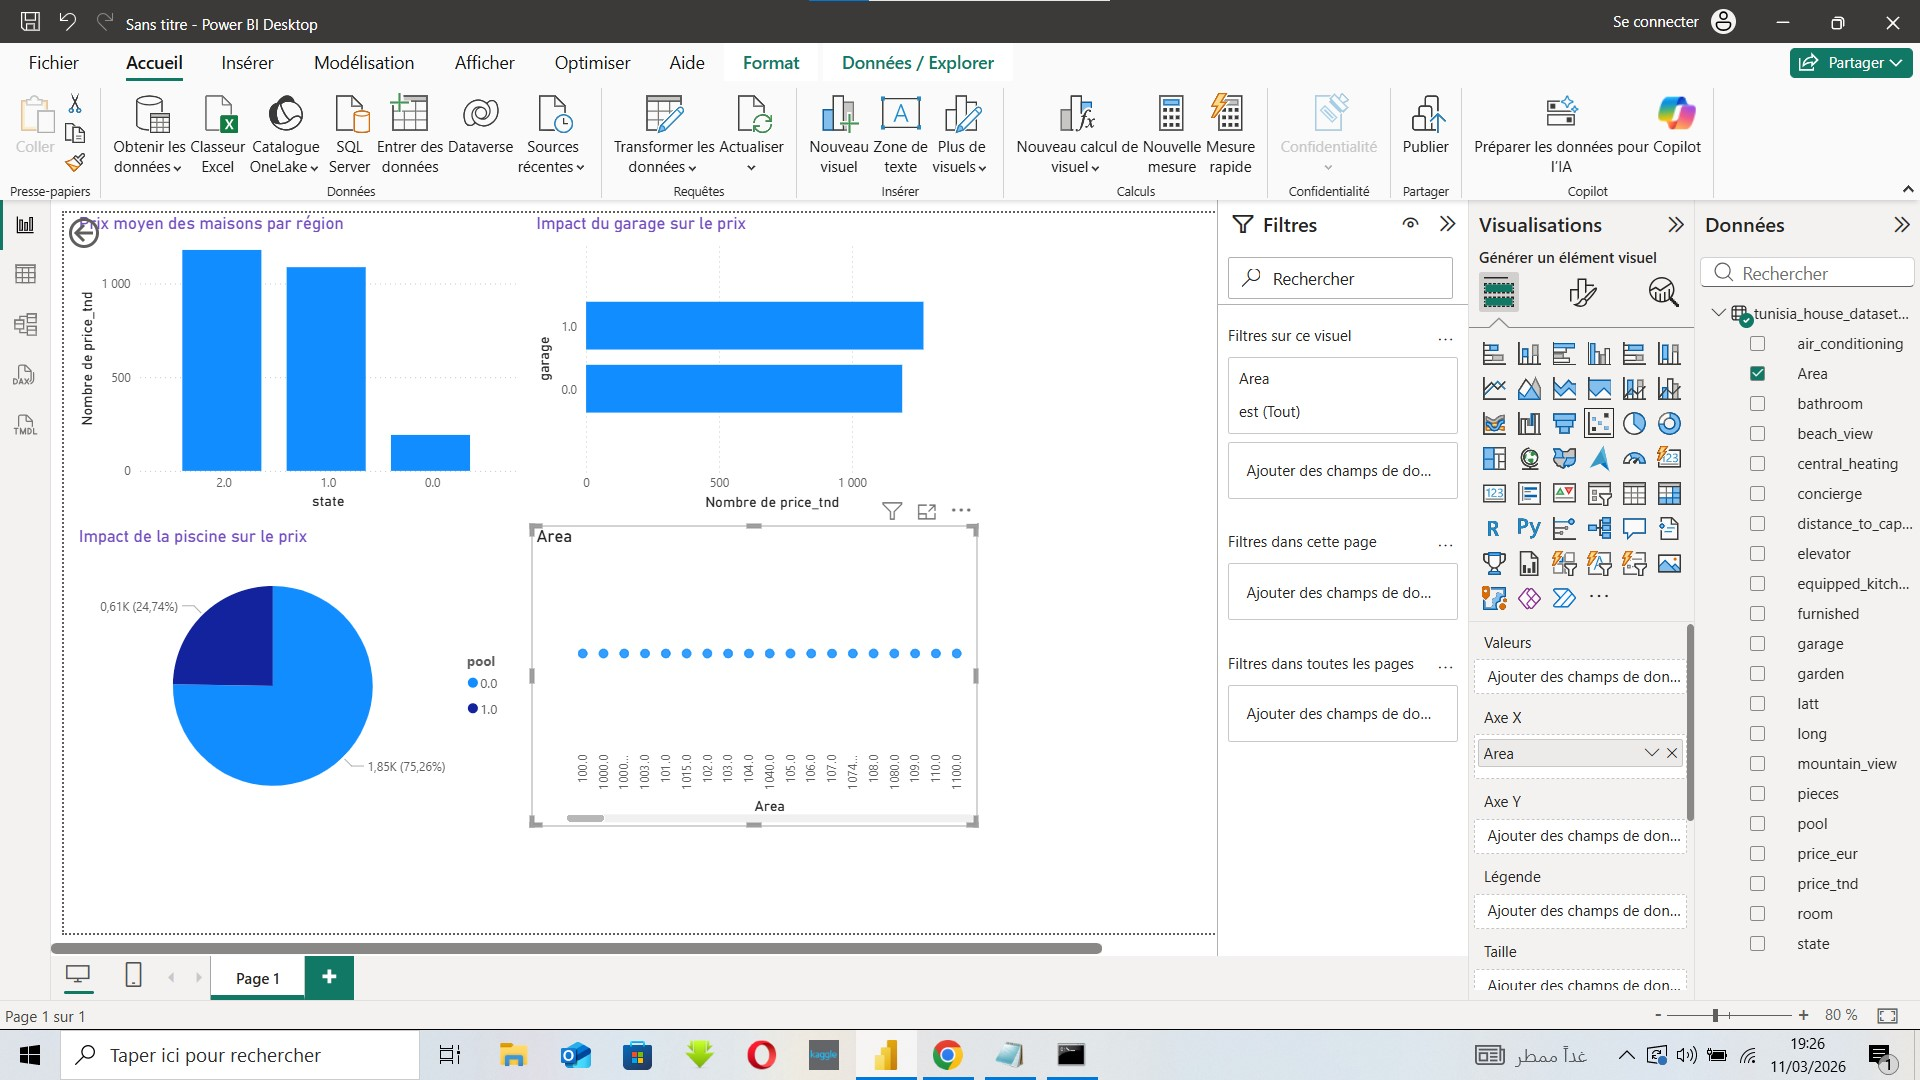

What the dashboard file says about the page in this screenshot:
{"tool":"powerbi","page":{"name":"Page 1","canvas":[1280,720],"ordinal":0},"visuals":[{"type":"clusteredColumnChart","title":"Prix moyen des maisons par région","fields":{"Category":["tunisia_house_dataset_clean.state"],"Y":["CountNonNull(tunisia_house_dataset_clean.price_tnd)"]},"box":[9.6,0,447.3,301.9],"z":0},{"type":"pieChart","title":"Impact de la piscine sur le prix","fields":{"Category":["tunisia_house_dataset_clean.pool"],"Y":["CountNonNull(tunisia_house_dataset_clean.price_tnd)"]},"box":[10,312,447,302],"z":1000},{"type":"clusteredBarChart","title":"Impact du garage sur le prix","fields":{"Category":["tunisia_house_dataset_clean.garage"],"Y":["CountNonNull(tunisia_house_dataset_clean.price_tnd)"]},"box":[467,0,447,302],"z":2000},{"type":"scatterChart","title":"Relation entre surface et prix","fields":{"X":["tunisia_house_dataset_clean.Area"],"Size":["CountNonNull(tunisia_house_dataset_clean.price_tnd)"]},"box":[467,312,447,302],"z":3000},{"type":"actionButton","box":[0,0,100,40],"z":4000}]}

Visuals, with their boxes on the page's 1280x720 design canvas (x1, y1, x2, y2). These are canvas units, not pixel positions in the 1920x1080 screenshot, which may show the page scaled, cropped or inside an application window:
"Prix moyen des maisons par région" clusteredColumnChart: l=10, t=0, r=457, b=302
"Impact de la piscine sur le prix" pieChart: l=10, t=312, r=457, b=614
"Impact du garage sur le prix" clusteredBarChart: l=467, t=0, r=914, b=302
"Relation entre surface et prix" scatterChart: l=467, t=312, r=914, b=614
actionButton: l=0, t=0, r=100, b=40
